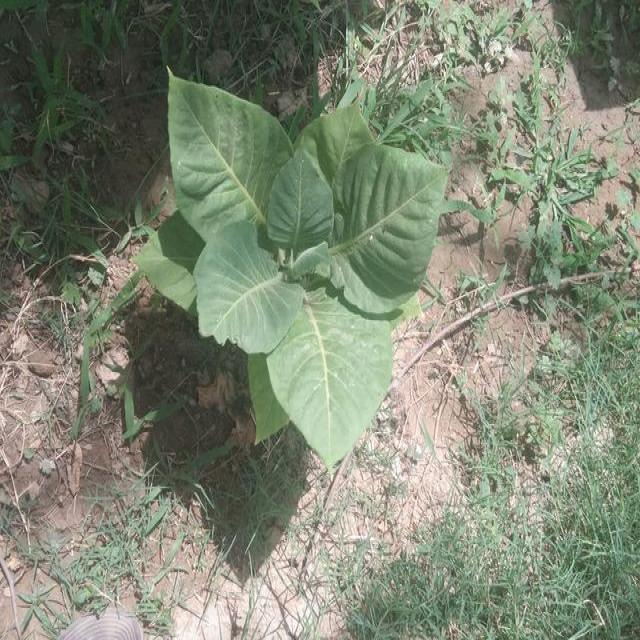crop: (136, 68, 440, 450)
